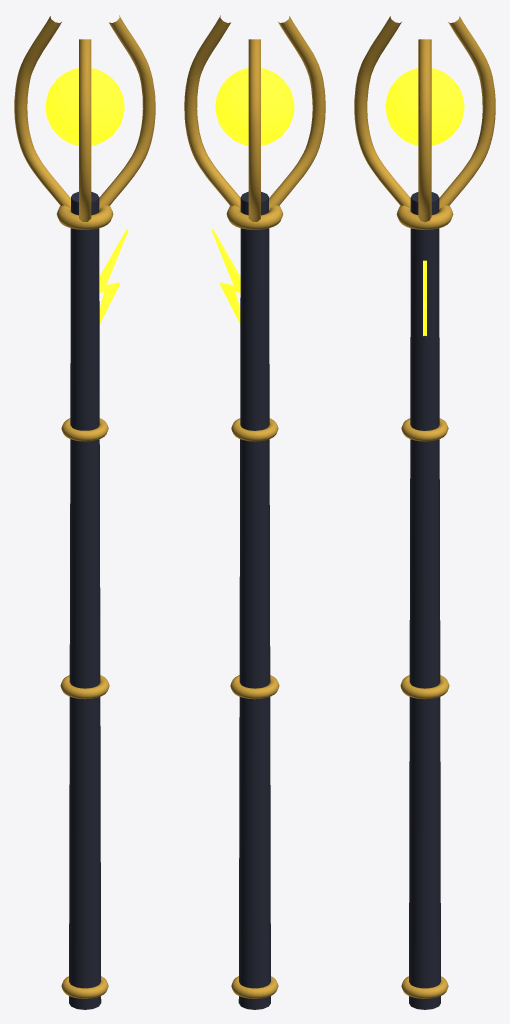
The model's file is staff_thunder.glb.
3 views of the same model, side by side, from view 1: azimuth 30°, elevation 25°; view 2: azimuth 150°, elevation 25°; view 3: azimuth 270°, elevation 25° (orthographic).
Visible parts, largest first — view 1: shaft, band, glow_orb, glow_fin; view 2: shaft, band, glow_orb, glow_fin; view 3: shaft, band, glow_orb.
Boxes of the visible parts, x1,y1,x2,y2 form: shaft: (69,191,101,1009); band: (14,15,155,998); glow_orb: (45,68,124,145); glow_fin: (99,229,128,324); shaft: (238,191,270,1009); band: (184,15,325,998); glow_orb: (215,68,294,145); glow_fin: (211,229,240,324); shaft: (409,192,440,1009); band: (354,16,495,998); glow_orb: (385,68,464,145).
Size of the model in its own units: 0.1315 by 1.14 by 0.1496.
